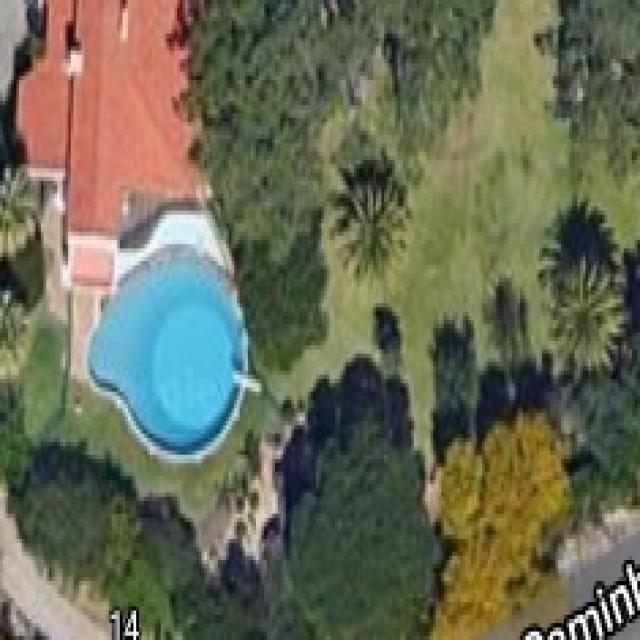swimming pool: (84, 240, 256, 463)
